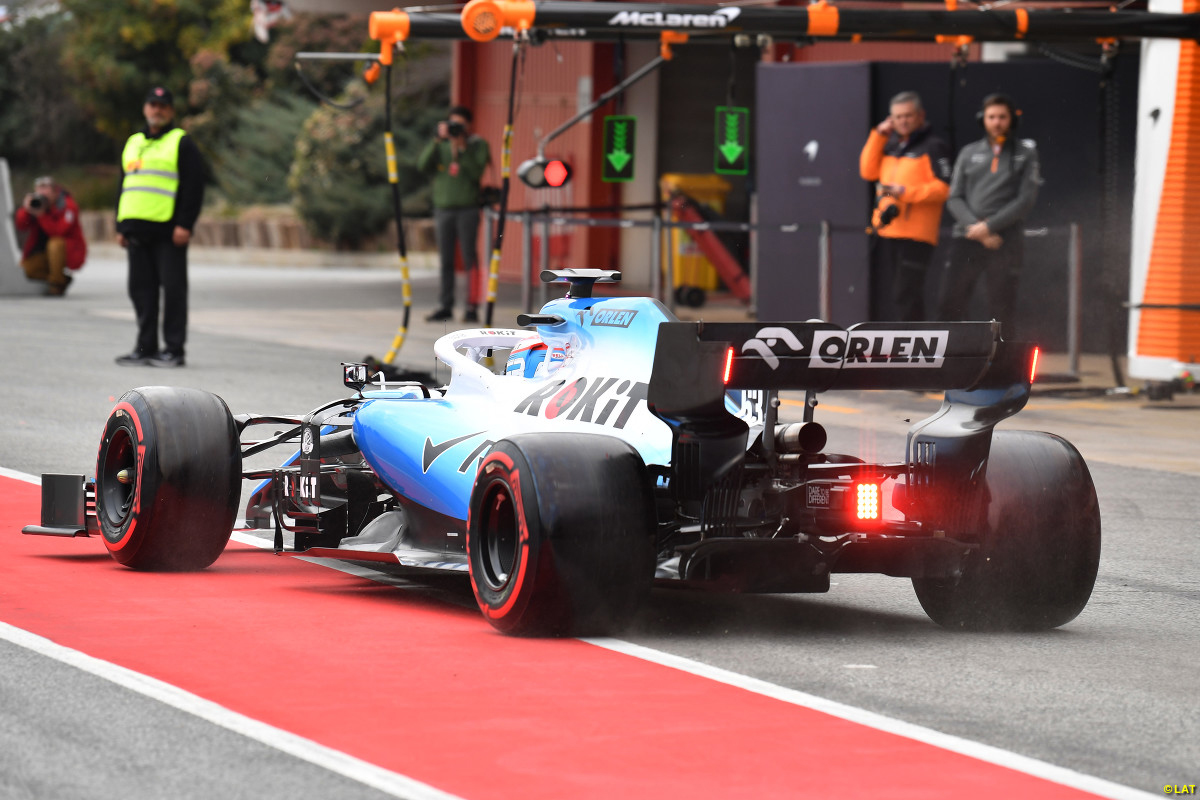F1 Car: (20, 260, 1113, 655)
